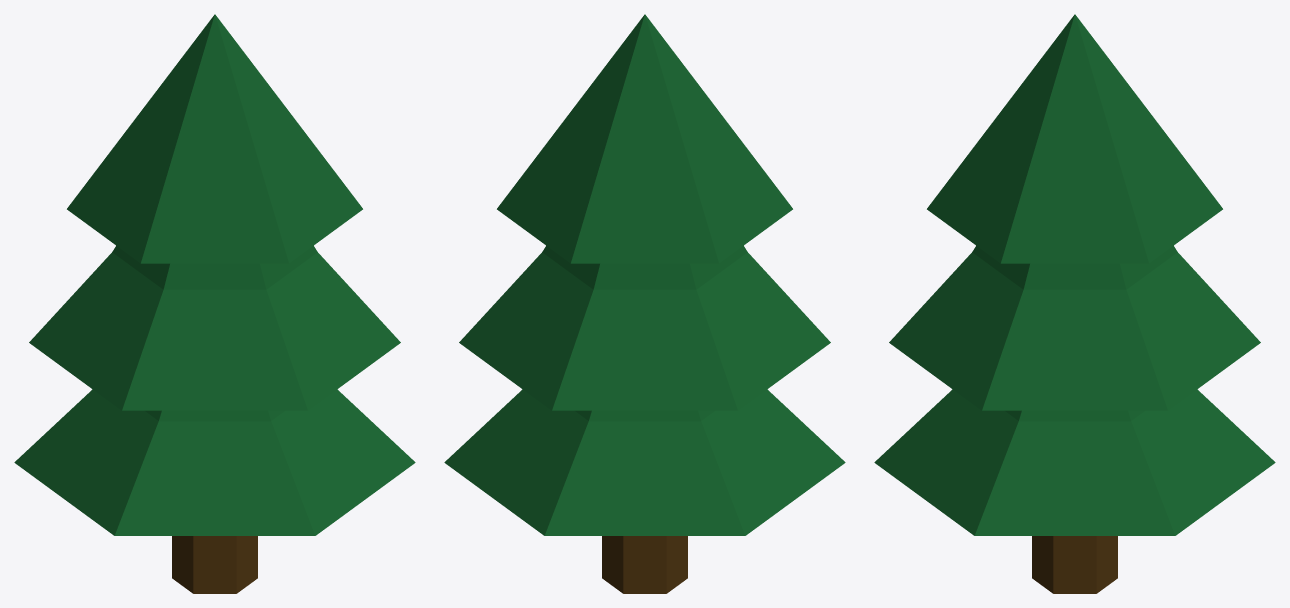
Rendered from Trees.fbx.
The picture shows the model from 3 angles, left to right: view 1: azimuth 30°, elevation 25°; view 2: azimuth 150°, elevation 25°; view 3: azimuth 270°, elevation 25°; orthographic projection.
Visible parts, largest first — view 1: Cylinder; view 2: Cylinder; view 3: Cylinder.
Boxes of the visible parts, bbox=[...] form: Cylinder: bbox=[14, 14, 415, 593]; Cylinder: bbox=[444, 14, 845, 593]; Cylinder: bbox=[874, 14, 1275, 593].
Bounding box in the file's own units: 408 × 731 × 471.
